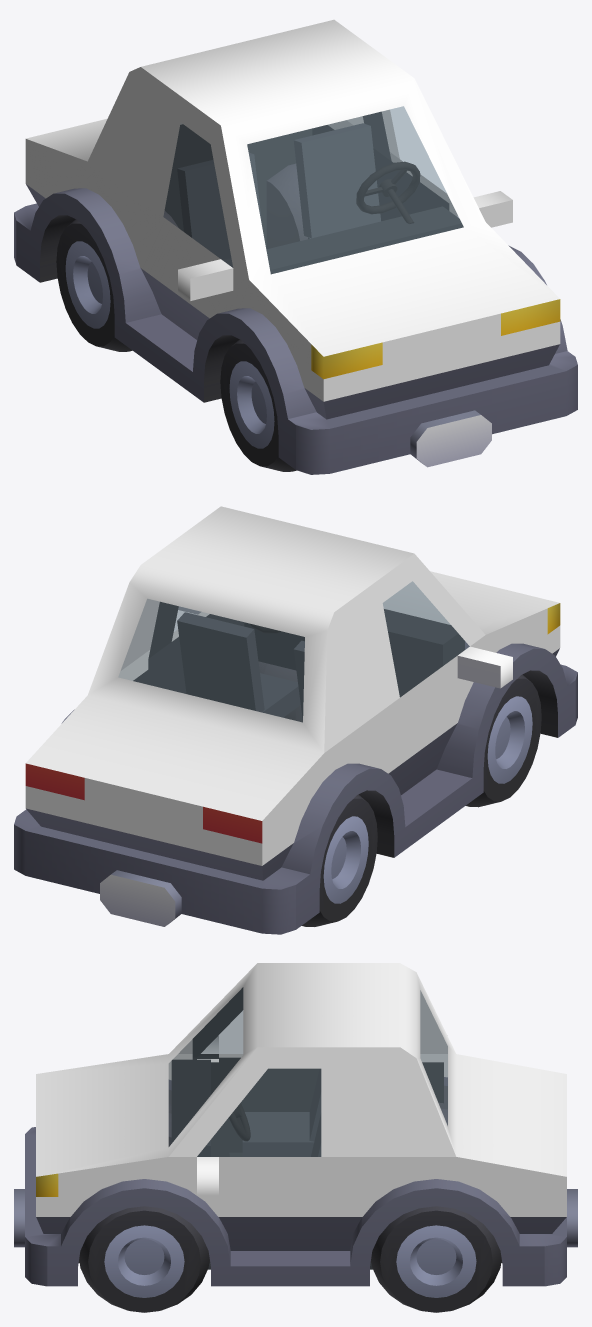
The model's file is sedan.glb.
3 renders of one model, top to bottom at view 1: azimuth 30°, elevation 25°; view 2: azimuth 150°, elevation 25°; view 3: azimuth 270°, elevation 25°, orthographic. The views are drawn at different scales.
Parts seen in each view (by area): view 1: paint, body, glass, interior, door-front-right-paint, wheel-back-right, wheel-front-right, door-front-right-glass, wheel-back-left, door-front-right-panel, steering-wheel, door-front-left-glass (+2 smaller); view 2: paint, body, glass, interior, door-front-right-paint, wheel-back-right, wheel-front-right, door-front-right-glass, door-front-right-panel, door-front-left-trim, door-front-left-paint, wheel-front-left; view 3: paint, body, door-front-left-paint, interior, wheel-back-left, wheel-front-left, door-front-left-glass, glass, door-front-left-panel, door-front-right-trim, door-front-right-glass, steering-wheel.
Part boxes in pixels (x1,y1,x2,y2): paint: (25, 19, 560, 401); body: (14, 184, 577, 474); glass: (247, 106, 463, 273); interior: (164, 123, 463, 274); door-front-right-paint: (140, 105, 241, 318); wheel-back-right: (56, 211, 178, 351); wheel-front-right: (220, 339, 296, 471); door-front-right-glass: (163, 123, 232, 267); wheel-back-left: (266, 163, 307, 248); door-front-right-panel: (118, 268, 209, 374); steering-wheel: (356, 161, 420, 223); door-front-left-glass: (390, 106, 446, 192); paint: (25, 506, 560, 865); body: (14, 603, 577, 934); glass: (118, 581, 450, 722); interior: (133, 609, 464, 719); door-front-right-paint: (359, 569, 512, 773); wheel-back-right: (302, 794, 377, 926); wheel-front-right: (465, 674, 541, 807); door-front-right-glass: (383, 581, 469, 696); door-front-right-panel: (388, 723, 479, 829); door-front-left-trim: (148, 602, 220, 669); door-front-left-paint: (140, 600, 209, 675); wheel-front-left: (259, 662, 302, 722); paint: (36, 963, 566, 1216); body: (14, 1077, 577, 1286); door-front-left-paint: (192, 1068, 362, 1216); interior: (171, 1059, 443, 1269); wheel-back-left: (371, 1206, 501, 1312); wheel-front-left: (79, 1206, 209, 1312); door-front-left-glass: (197, 1069, 320, 1156); glass: (169, 988, 447, 1146); door-front-left-panel: (218, 1217, 362, 1263); door-front-right-trim: (192, 987, 243, 1156); door-front-right-glass: (201, 1011, 242, 1053); steering-wheel: (228, 1103, 250, 1141).
Size of the model in its own units: 2.33 by 2.01 by 3.95.
4 materials, 1 textured.
